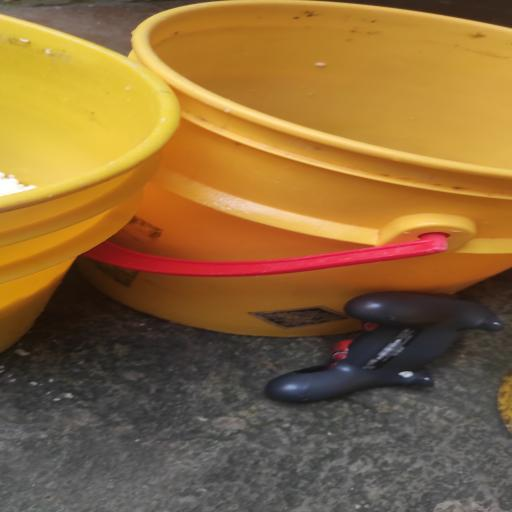ControlPlay4: (266, 292, 502, 402)
